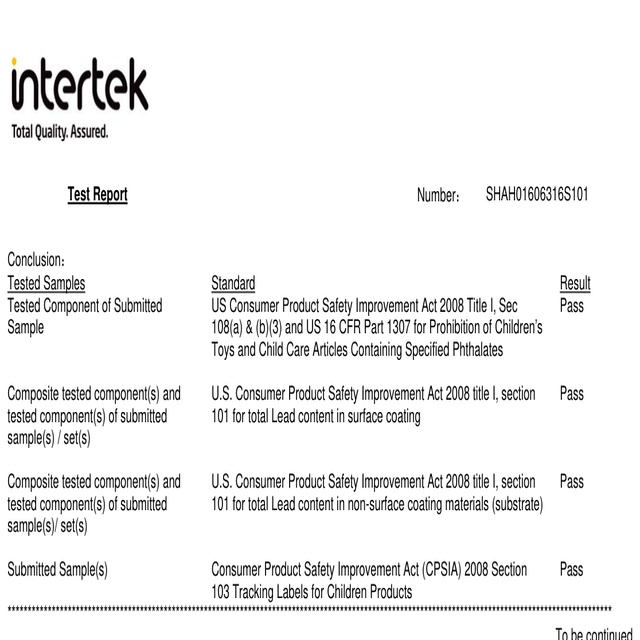intertek: (8, 52, 156, 116)
